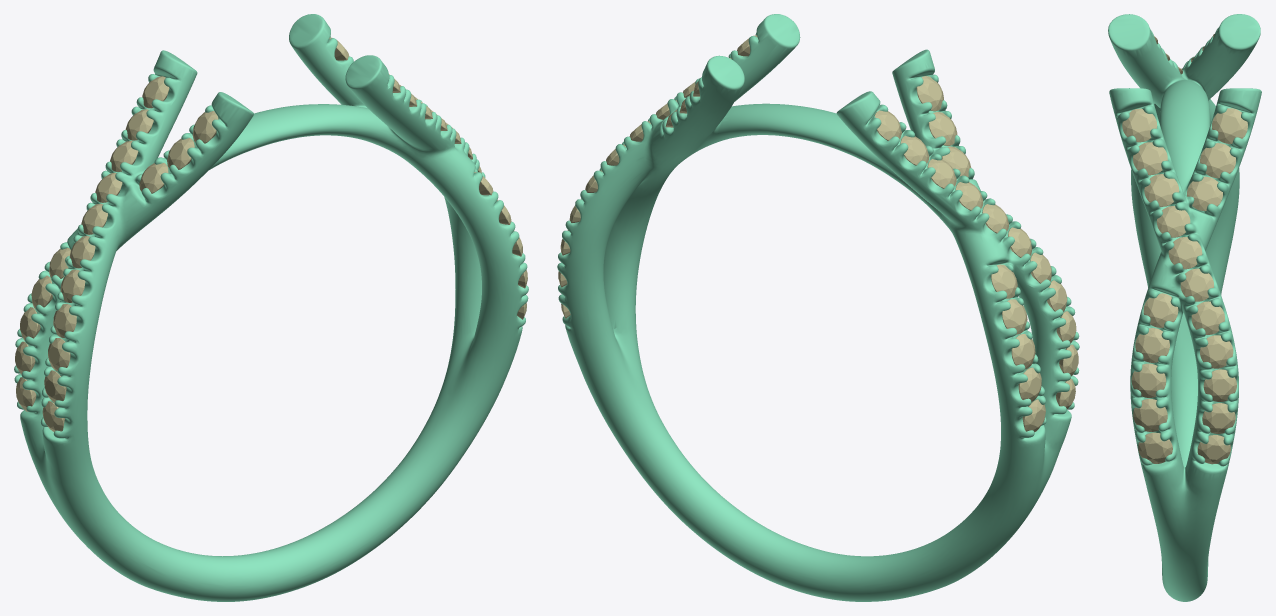
The picture shows the model from 3 angles, left to right: view 1: azimuth 30°, elevation 25°; view 2: azimuth 150°, elevation 25°; view 3: azimuth 270°, elevation 25°; orthographic projection. The views are drawn at different scales.
Parts seen in each view (by area): view 1: Metal02; view 2: Metal02; view 3: Metal02, Diamond_Gem.035, Diamond_Gem.036, Diamond_Gem.037, Diamond_Gem.020, Diamond_Gem.021, Diamond_Gem.019, Diamond_Gem.034, Diamond_Gem.022, Diamond_Gem.032, Diamond_Gem.033, Diamond_Gem.027 (+8 smaller).
Part boxes in pixels (box(x1,y1,x2,y2)): Metal02: box(14, 14, 528, 601); Metal02: box(557, 14, 1079, 601); Metal02: box(1108, 14, 1261, 601); Diamond_Gem.035: box(1212, 108, 1247, 143); Diamond_Gem.036: box(1200, 143, 1236, 178); Diamond_Gem.037: box(1187, 176, 1222, 211); Diamond_Gem.020: box(1135, 328, 1169, 362); Diamond_Gem.021: box(1131, 363, 1166, 397); Diamond_Gem.019: box(1143, 293, 1178, 327); Diamond_Gem.034: box(1122, 108, 1157, 142); Diamond_Gem.022: box(1133, 399, 1167, 431); Diamond_Gem.032: box(1144, 174, 1179, 206); Diamond_Gem.033: box(1133, 142, 1167, 175); Diamond_Gem.027: box(1200, 335, 1233, 368).
Size of the model in its own units: 21.04 by 22.49 by 5.96.
